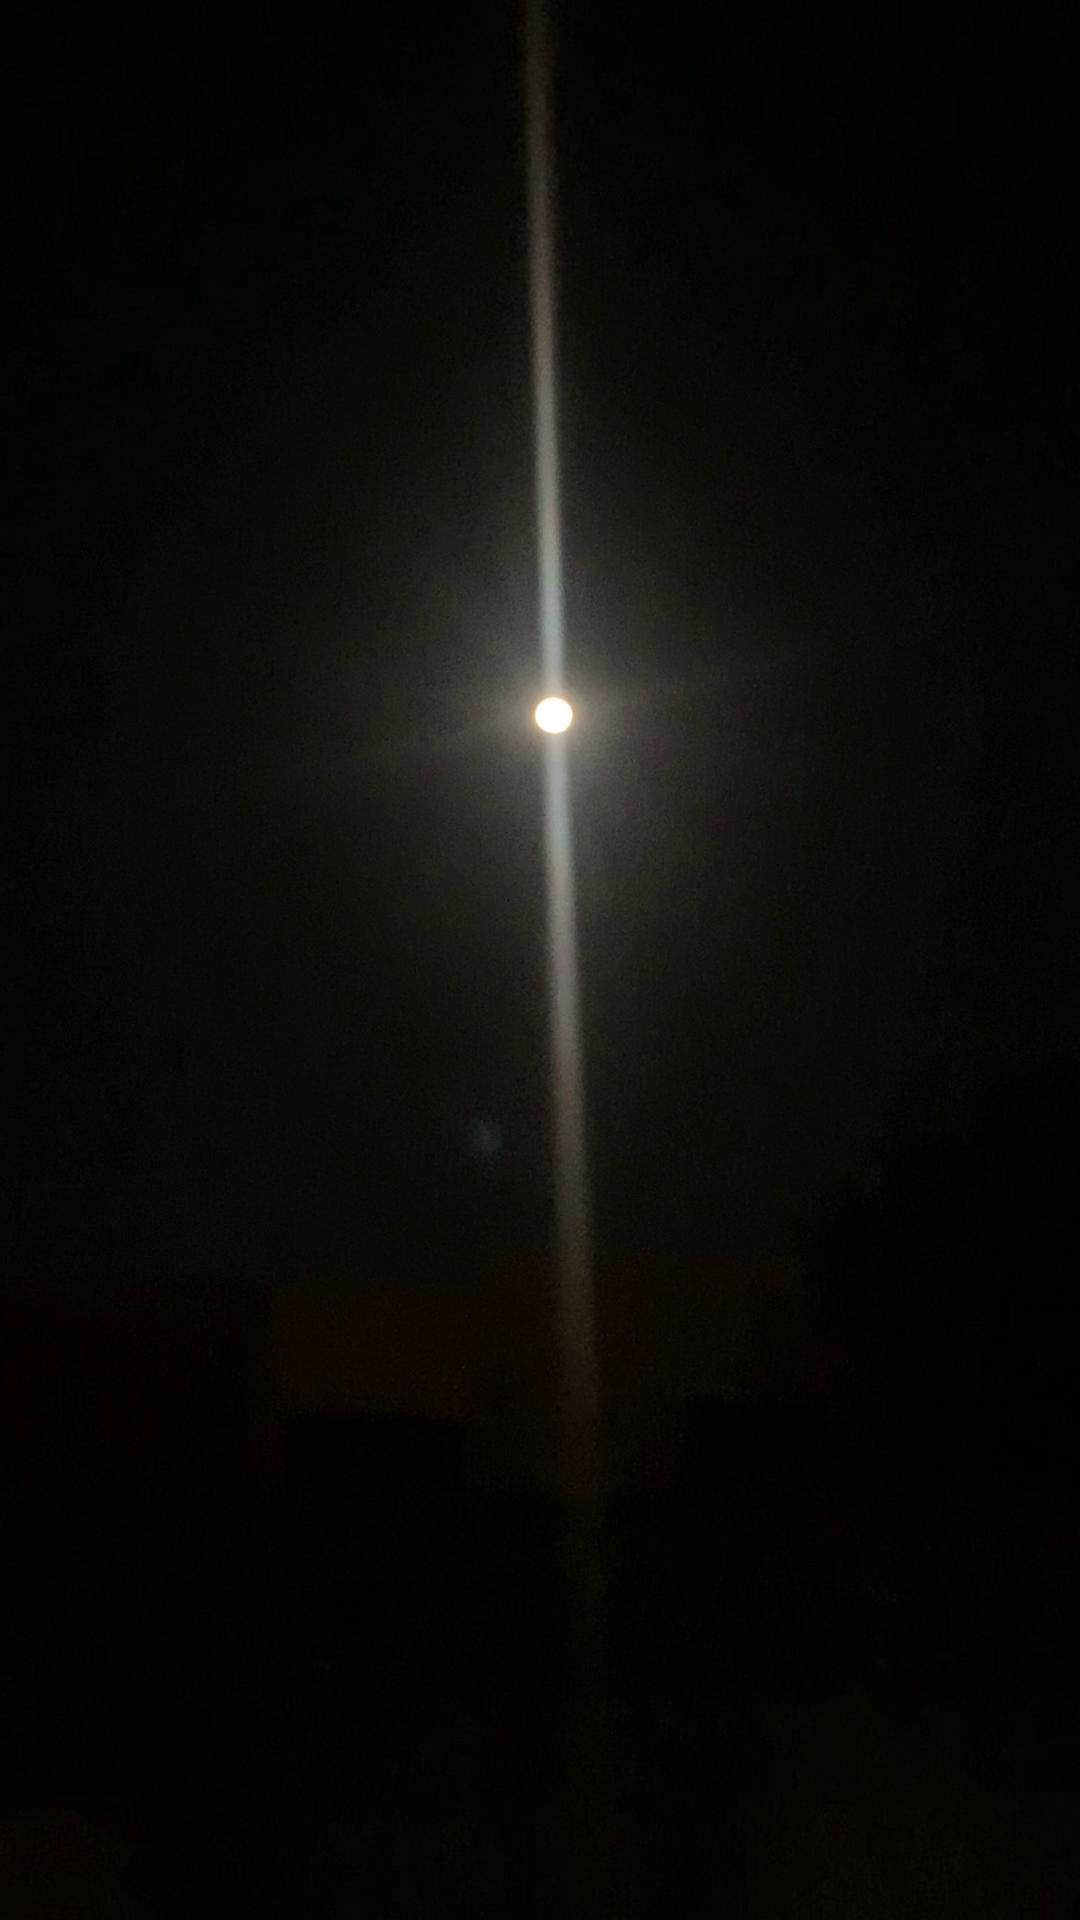moon: (513, 662, 621, 761)
